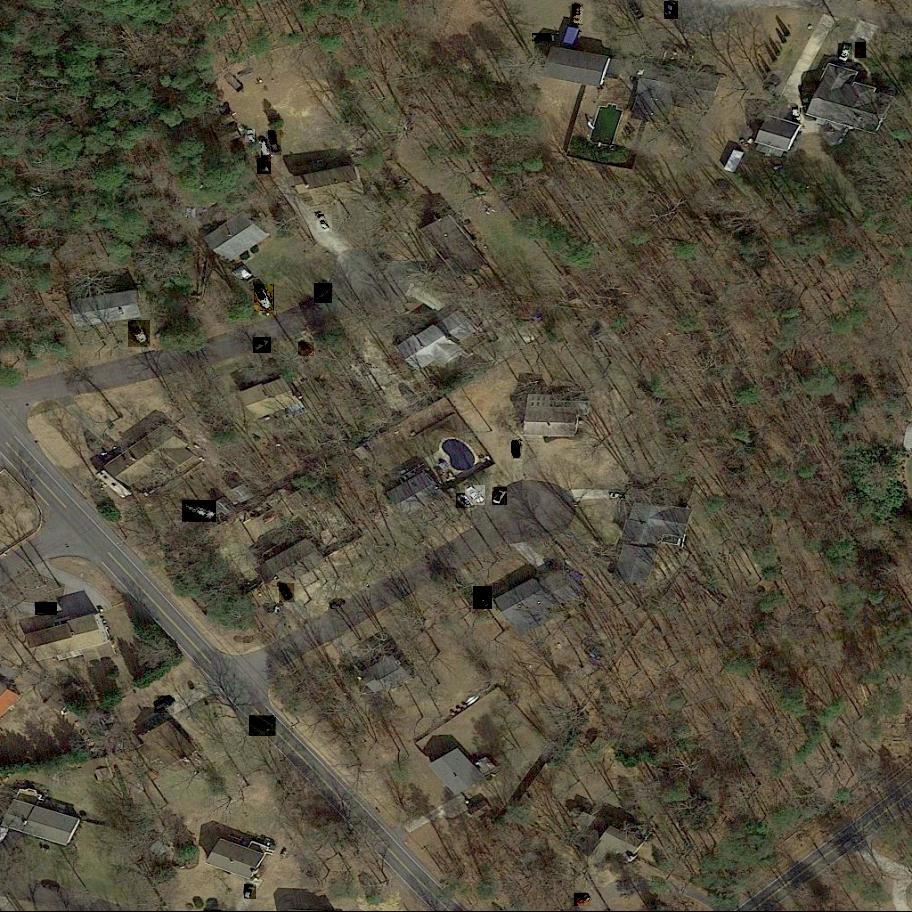ship: (182, 500, 217, 523), (129, 320, 151, 348), (255, 284, 276, 311)
small-vehicle: (250, 716, 277, 737), (465, 485, 486, 506), (154, 696, 176, 715), (475, 586, 493, 609), (314, 283, 333, 304), (457, 492, 476, 510), (269, 129, 282, 155), (279, 583, 295, 604), (35, 603, 58, 617), (329, 597, 349, 613), (838, 42, 852, 64), (318, 213, 332, 234), (493, 487, 508, 506), (254, 338, 271, 354), (665, 1, 679, 20), (299, 341, 315, 357), (512, 439, 524, 459), (257, 158, 271, 175), (575, 893, 592, 907), (854, 43, 866, 59), (245, 884, 257, 900), (573, 5, 583, 24), (261, 139, 271, 157), (265, 605, 285, 614), (245, 129, 256, 144), (610, 492, 627, 500), (792, 107, 801, 122), (532, 34, 551, 41)
